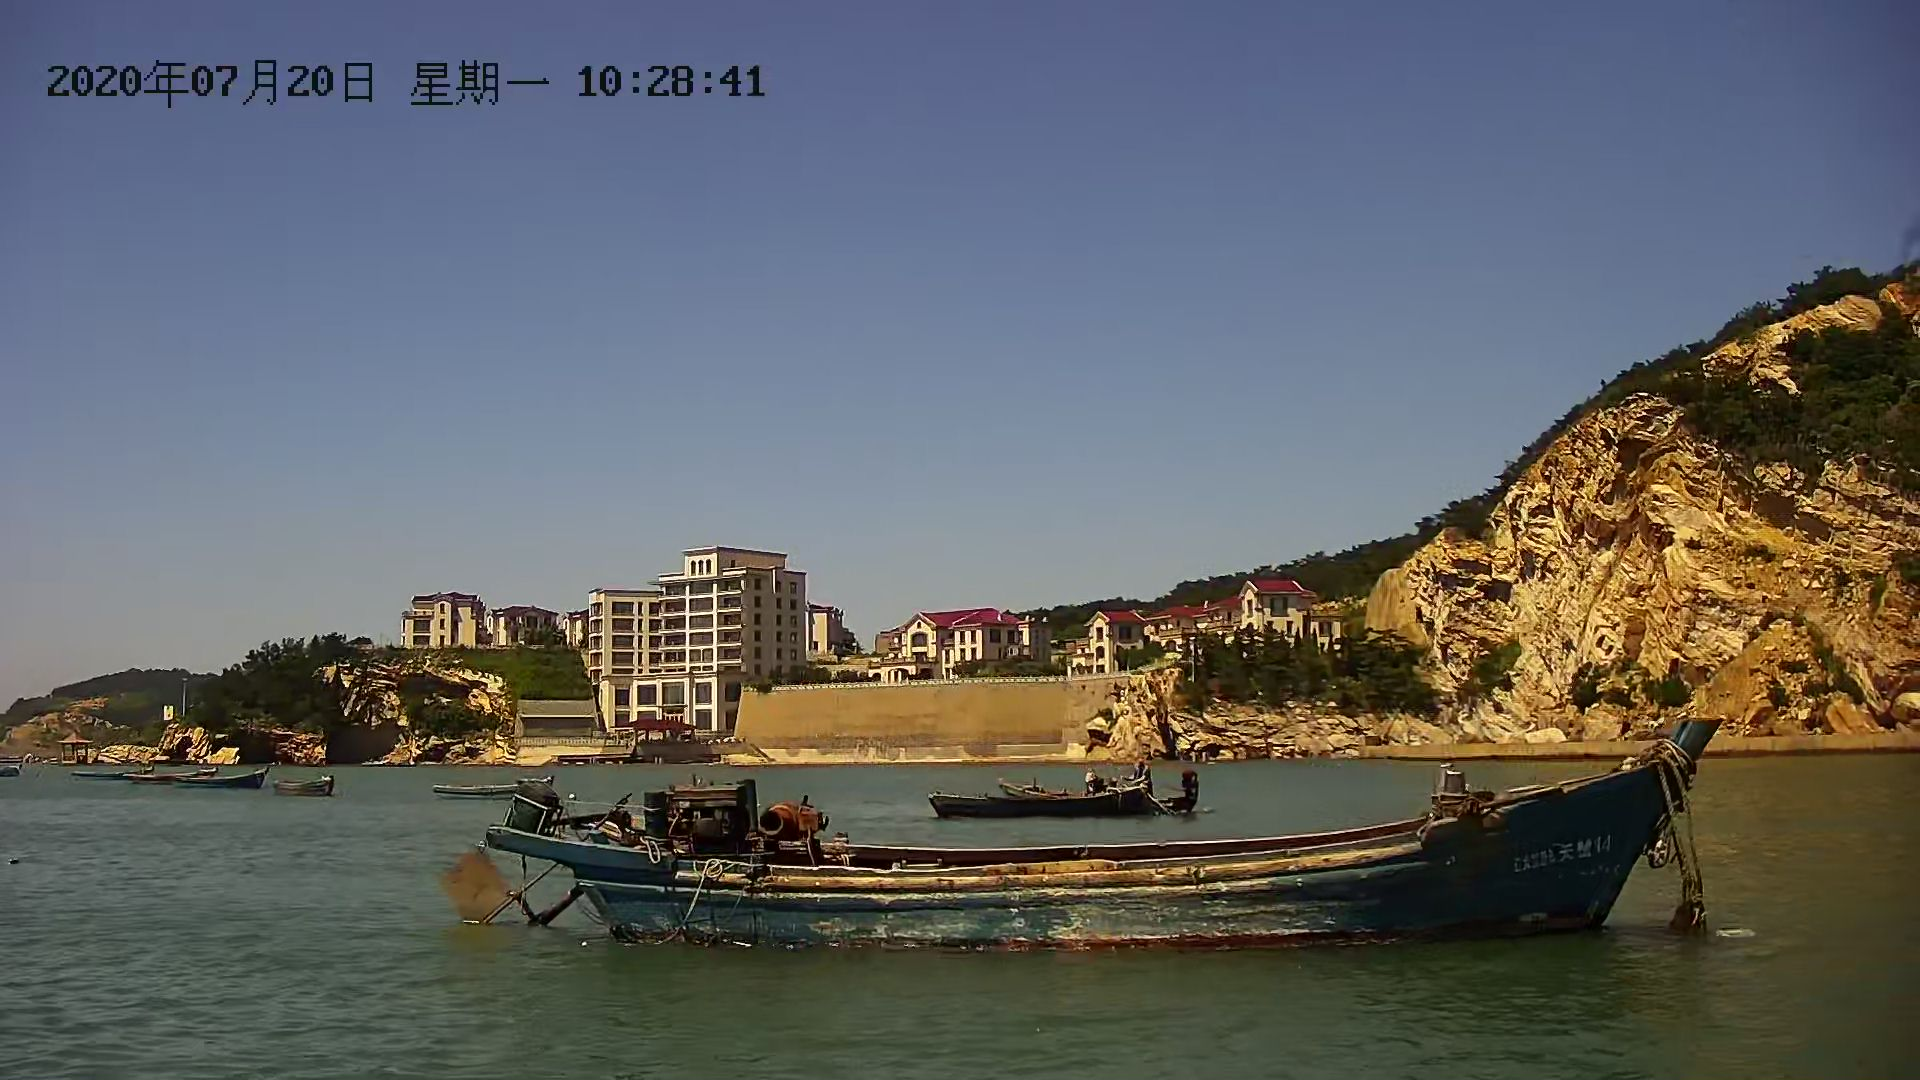boat: (485, 741, 1716, 953), (919, 767, 1201, 820), (431, 778, 553, 803), (183, 764, 264, 794), (268, 773, 340, 802)
